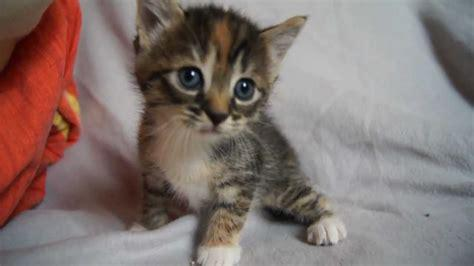cat: (132, 1, 347, 264)
